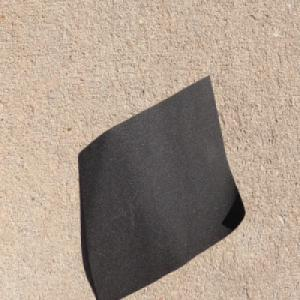PaintChip: (77, 73, 246, 300)
